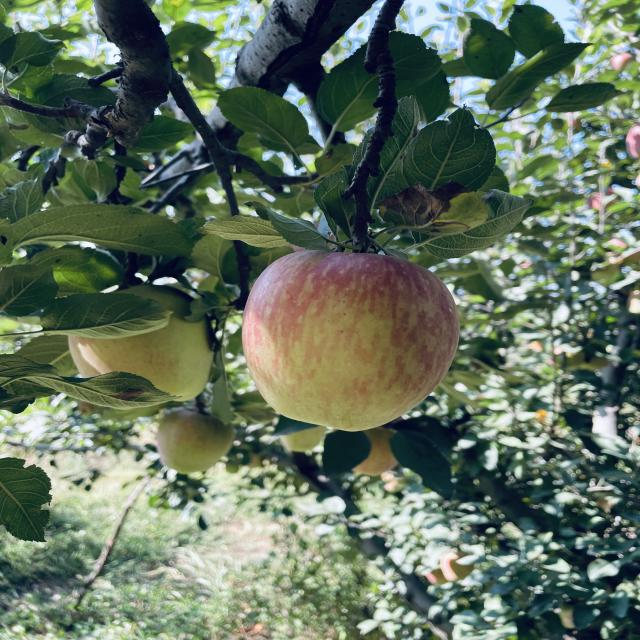Apple: (242, 250, 458, 431)
